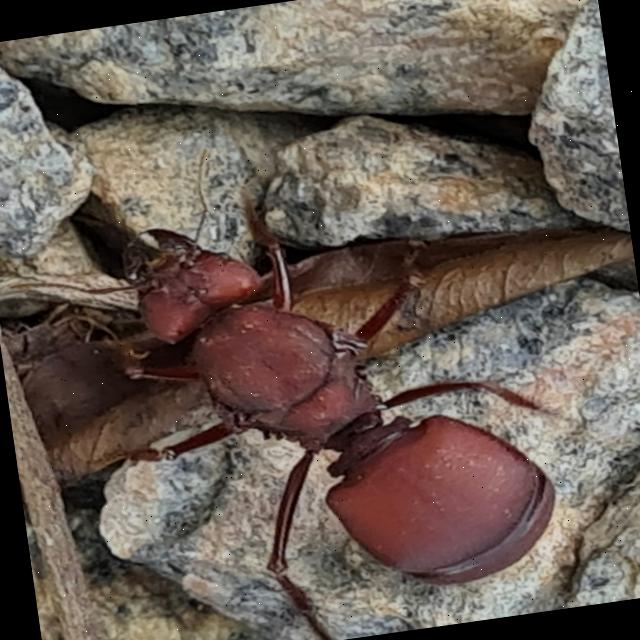Alive-Female-Dealate: (0, 98, 622, 640)
